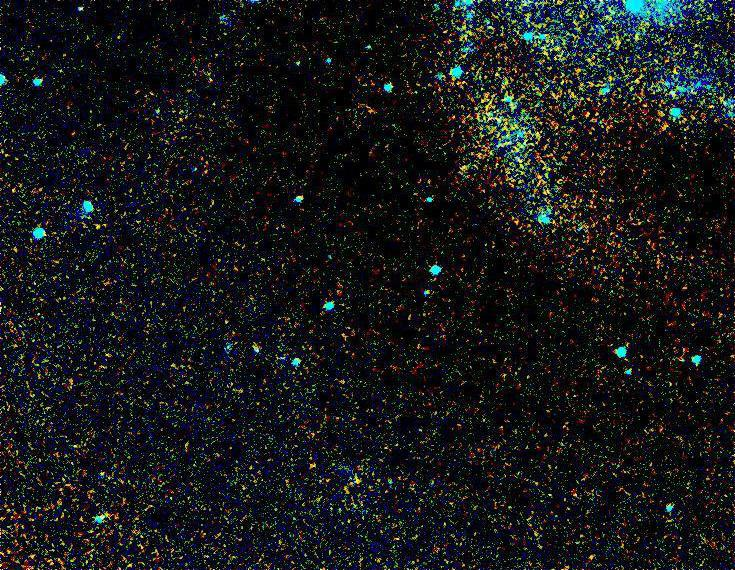star: (445, 158, 475, 188)
